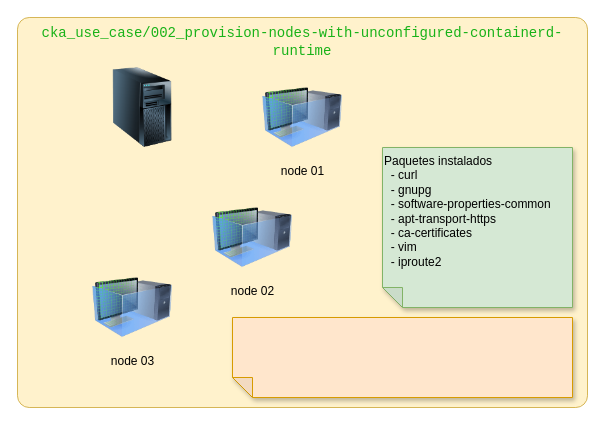
The diagram is 605 pixels wide and 425 high, and some of its shapes have lost their labels. Here are the shapes that lost their labels. From the top down, the centre of each, then its label:
point (142, 107): kvm host
point (403, 358): Proximo paso: -
